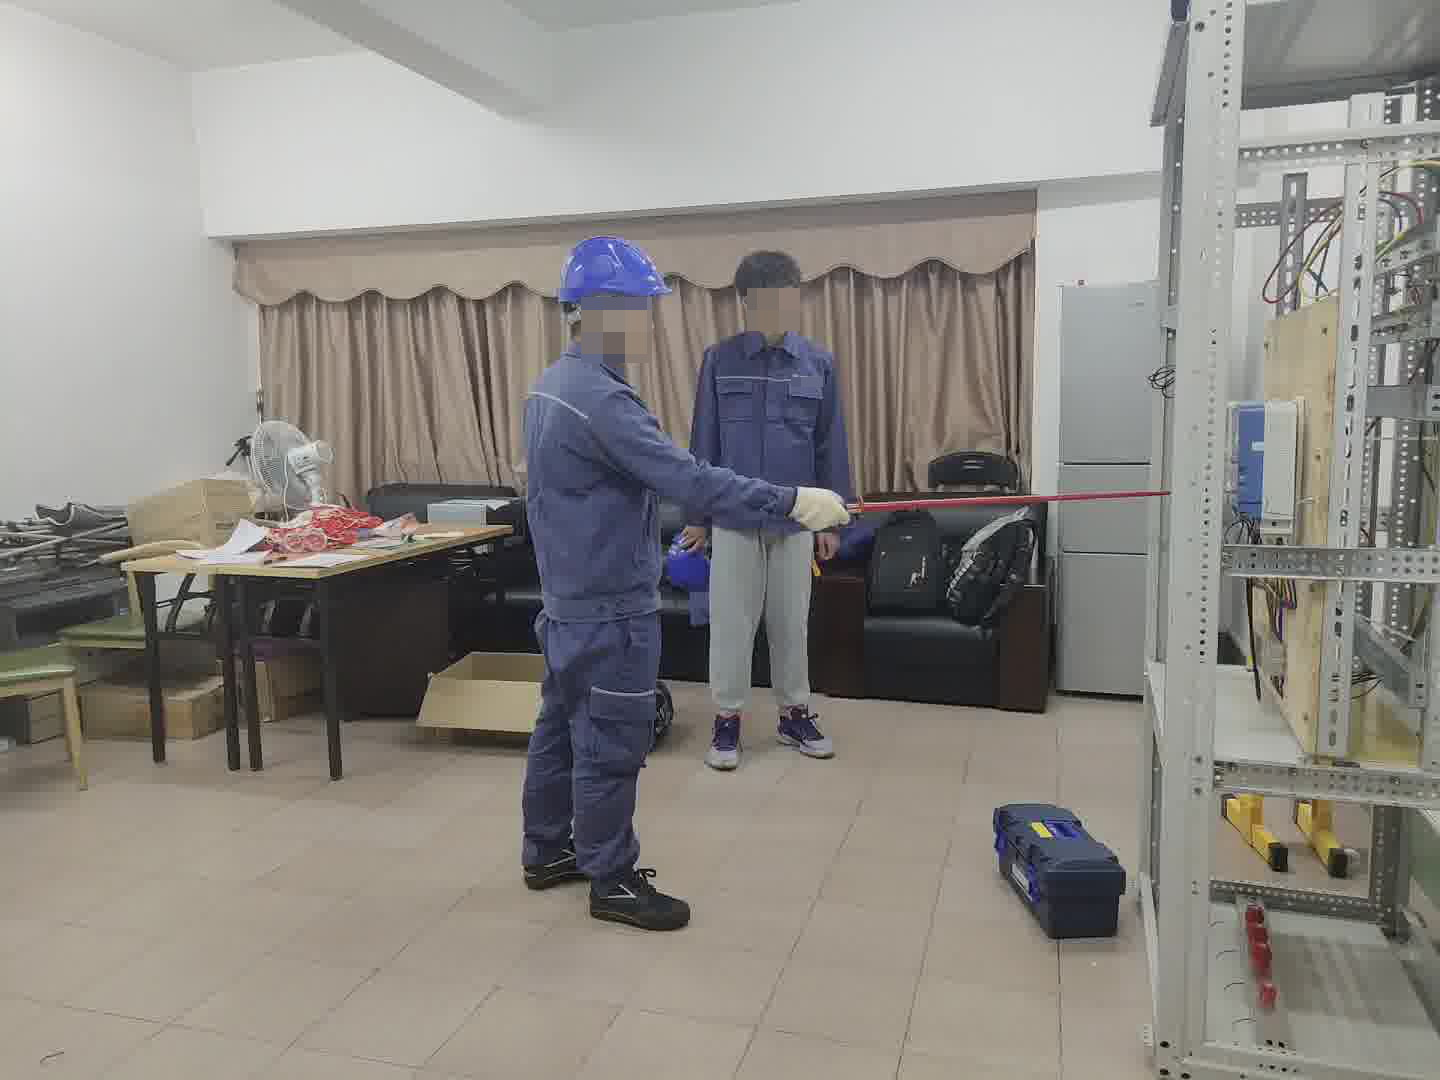downcloth: (708, 527, 815, 709)
downsuit: (516, 629, 665, 876)
halt: (555, 235, 673, 355)
hand: (815, 527, 843, 563), (676, 527, 709, 553)
inear: (572, 302, 629, 350)
person: (510, 232, 696, 921), (674, 248, 849, 759)
testrod: (844, 485, 1169, 519)
unhalt: (731, 248, 810, 336)
upsuit: (521, 344, 719, 612), (694, 328, 845, 516)
wglove: (793, 483, 848, 537)
